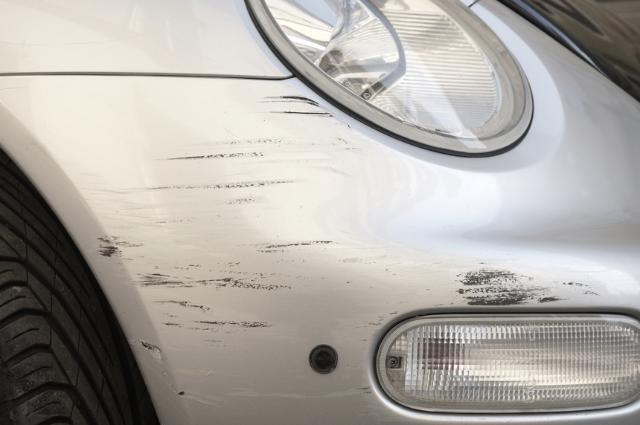Bumper: (5, 71, 640, 425)
